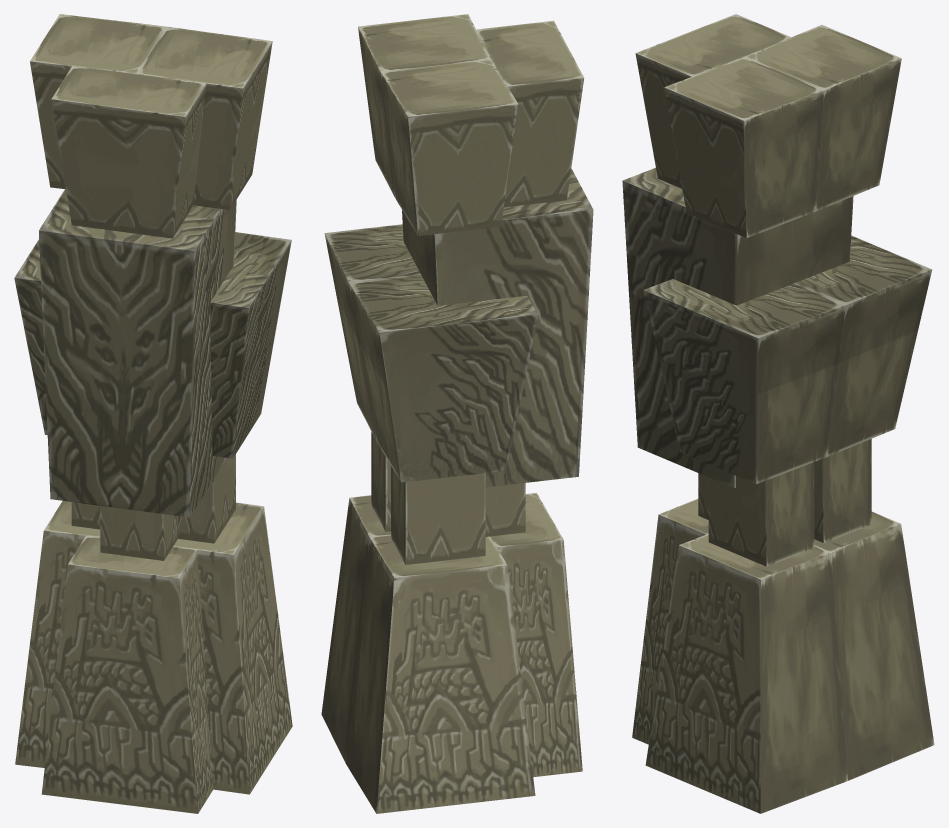
File: pillar_corner.fbx
3 views of the same model, side by side, from view 1: azimuth 30°, elevation 25°; view 2: azimuth 150°, elevation 25°; view 3: azimuth 270°, elevation 25° (orthographic). The views are drawn at different scales.
Visible parts, largest first — view 1: polySurface105; view 2: polySurface105; view 3: polySurface105.
Part boxes in pixels (box(x1,y1,x2,y2)): polySurface105: box(14, 14, 292, 813); polySurface105: box(321, 14, 593, 813); polySurface105: box(622, 14, 934, 813).
Bounding box in the file's own units: 0.7934 × 2 × 0.8322.
